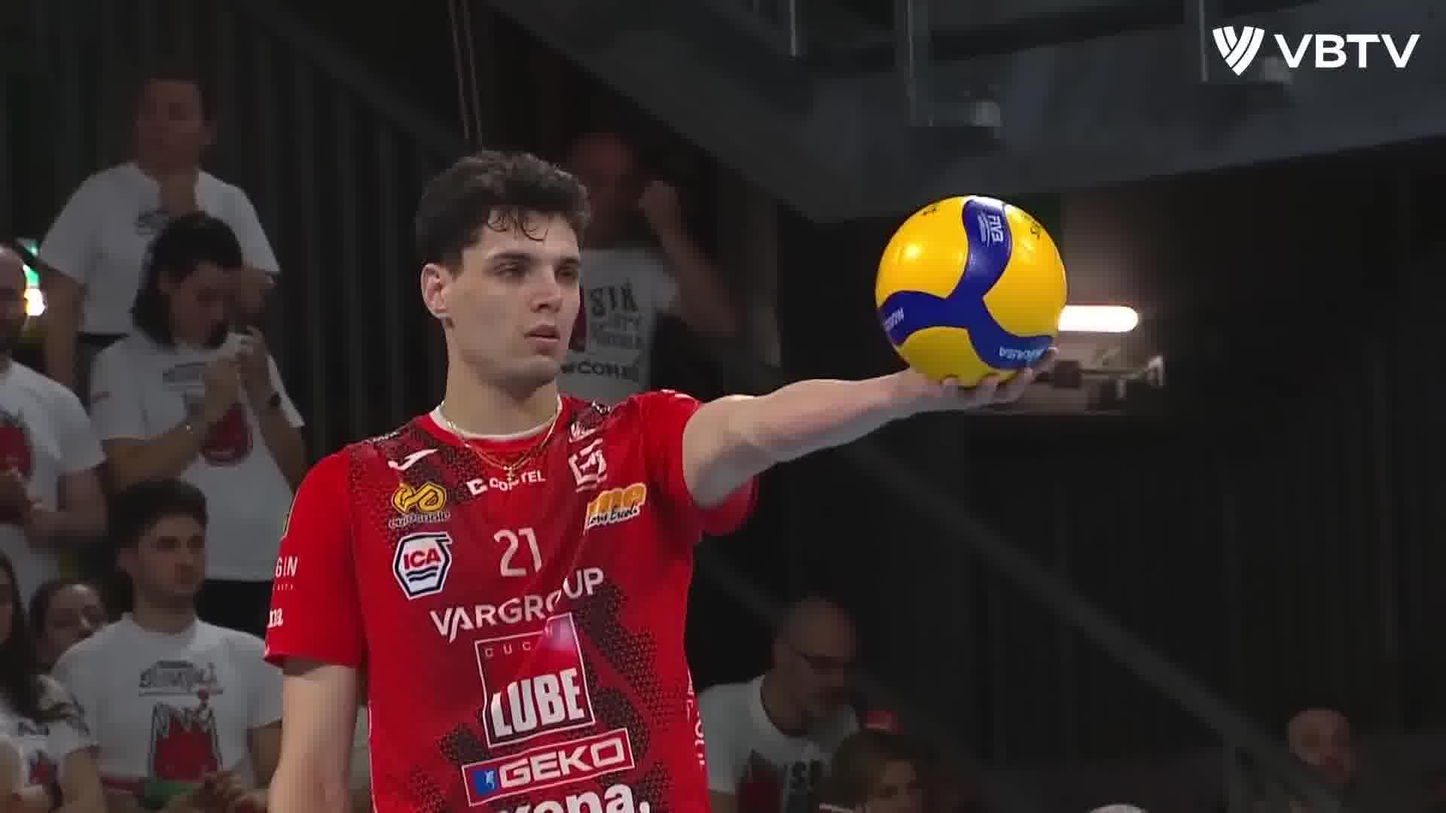balls: (874, 190, 1072, 394)
